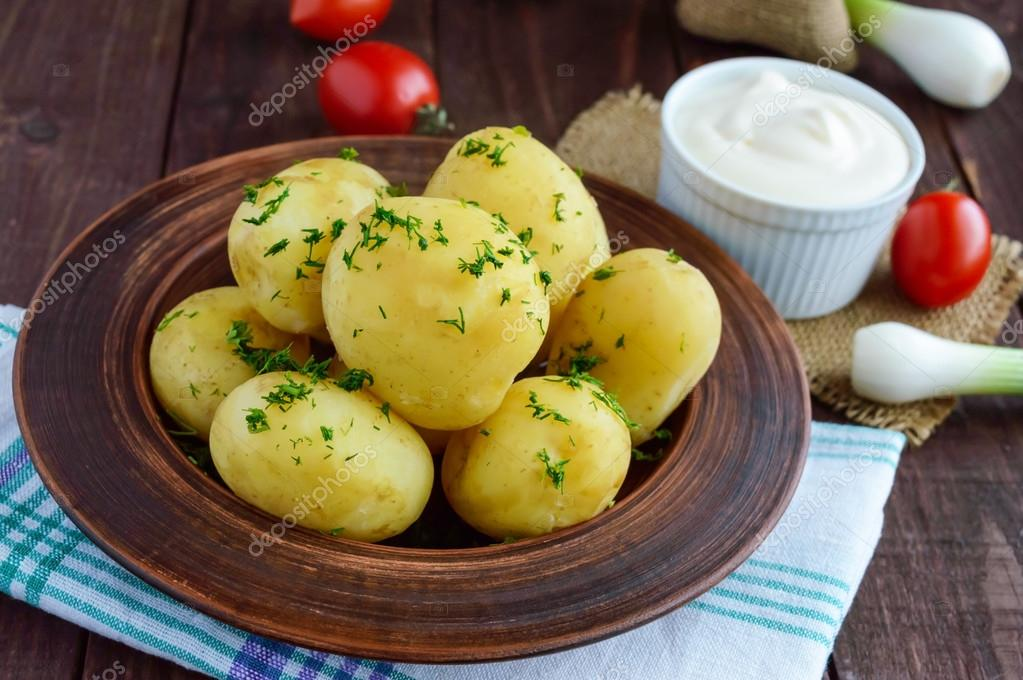boiled potatoes: (227, 168, 622, 509)
